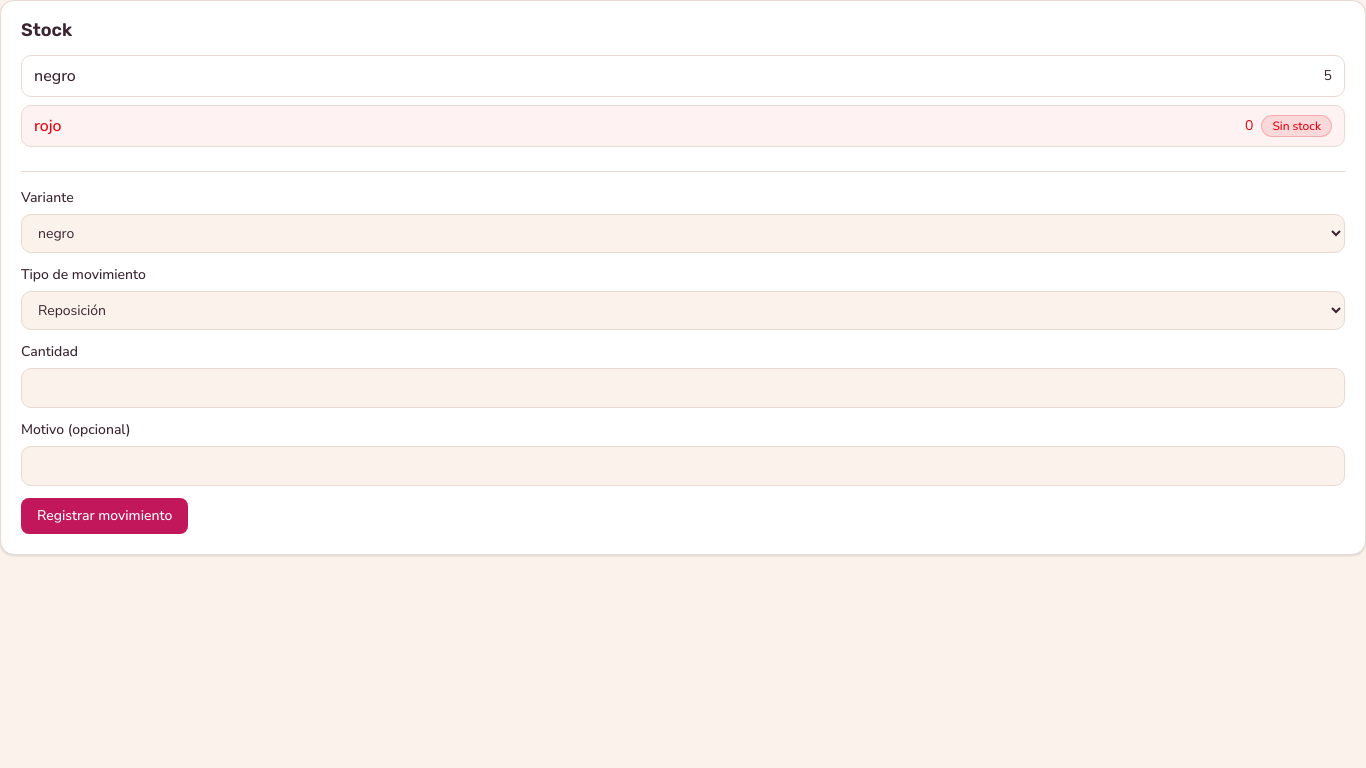
Test case: StockManager › shows the direction control only when movement type is adjustment
This screenshot has width=1366, height=768.
Expected: the field labelled "dirección" is not shown
Select "Ajuste" in the dropdown labelled "Tipo de movimiento". click: (683, 310)
box: [21, 291, 1345, 330]
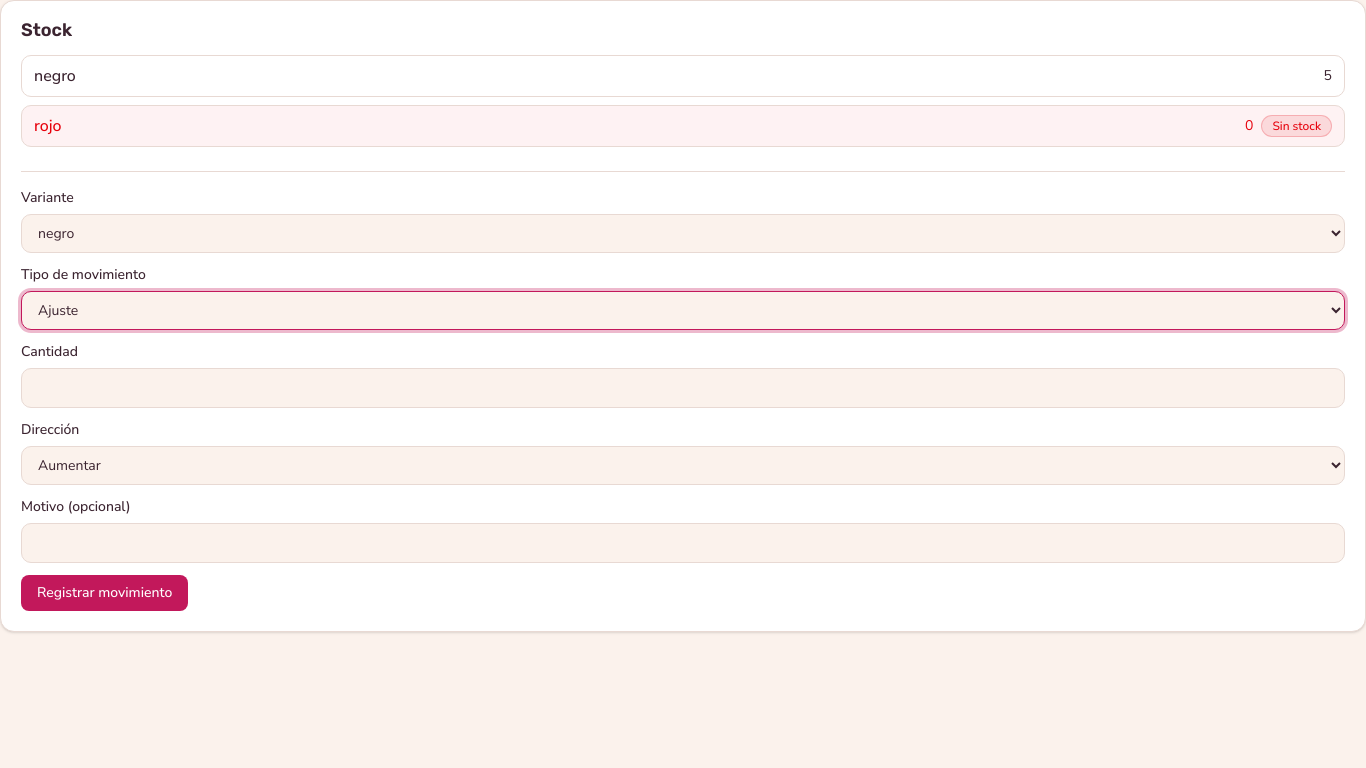
Result: the dropdown labelled "Dirección" is shown at [21, 446, 1345, 485]
Select "Venta" in the dropdown labelled "Tipo de movimiento". click: (683, 310)
box: [21, 291, 1345, 330]
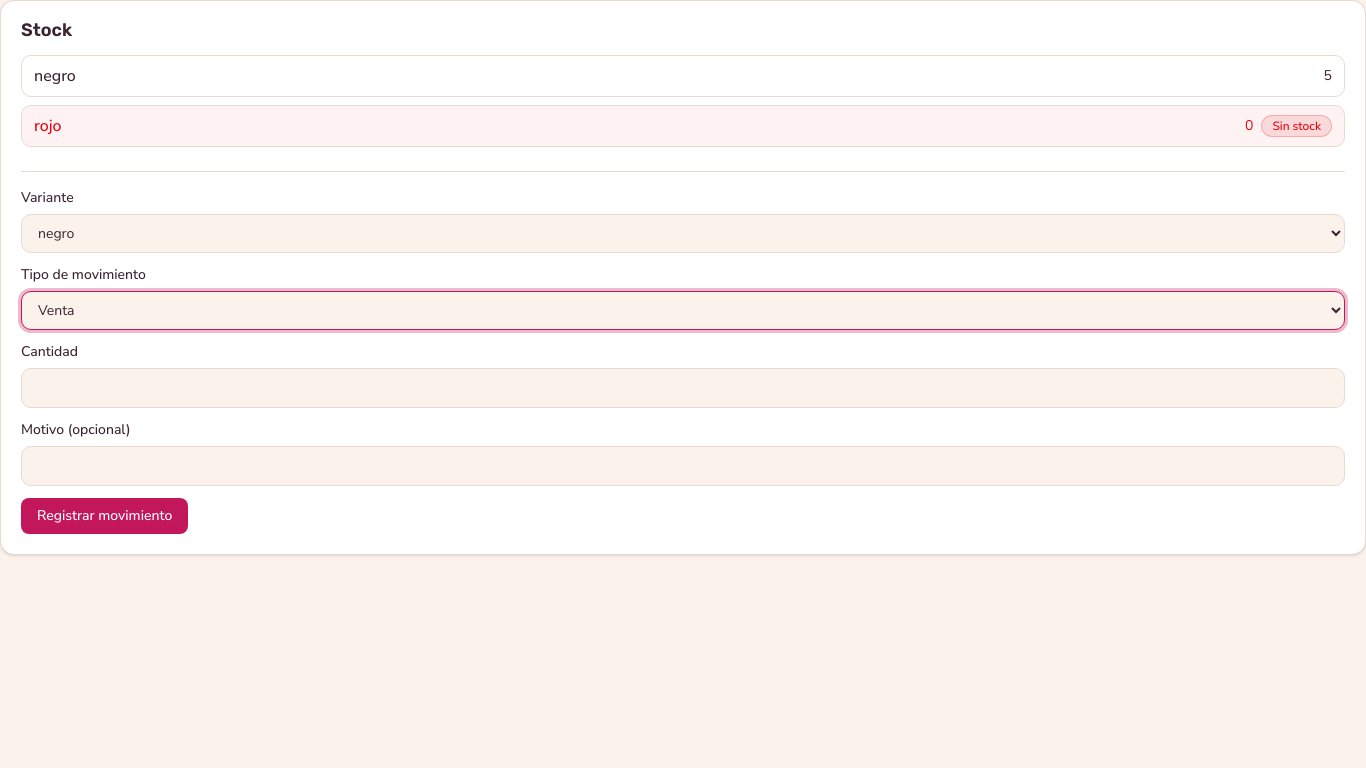
Result: the label labelled "Dirección" is gone
